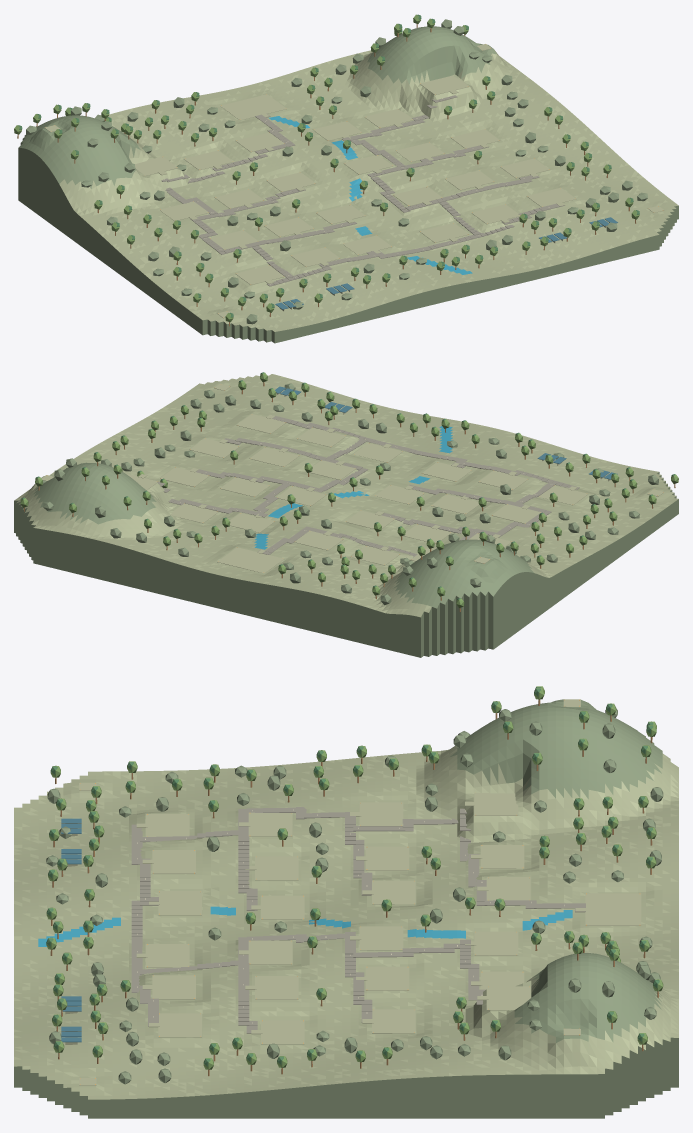
File: ground.glb
The picture shows the model from 3 angles, top to bottom: view 1: azimuth 30°, elevation 25°; view 2: azimuth 150°, elevation 25°; view 3: azimuth 270°, elevation 25°; orthographic projection. The views are drawn at different scales.
Parts seen in each view (by area): view 1: planet_colony__Terrain, planet_colony__Roads, planet_colony__Decoration; view 2: planet_colony__Terrain, planet_colony__Roads, planet_colony__Decoration; view 3: planet_colony__Terrain, planet_colony__Roads, planet_colony__Decoration.
Boxes of the visible parts, x1=… form: planet_colony__Terrain: x1=18, y1=26, x2=678, y2=343; planet_colony__Roads: x1=44, y1=44, x2=664, y2=318; planet_colony__Decoration: x1=14, y1=14, x2=647, y2=326; planet_colony__Terrain: x1=14, y1=374, x2=678, y2=657; planet_colony__Roads: x1=41, y1=383, x2=663, y2=573; planet_colony__Decoration: x1=20, y1=372, x2=678, y2=611; planet_colony__Terrain: x1=14, y1=699, x2=678, y2=1118; planet_colony__Roads: x1=79, y1=699, x2=641, y2=1085; planet_colony__Decoration: x1=46, y1=686, x2=663, y2=1084.
Bounding box in the file's own units: 188 × 34.35 × 162.
